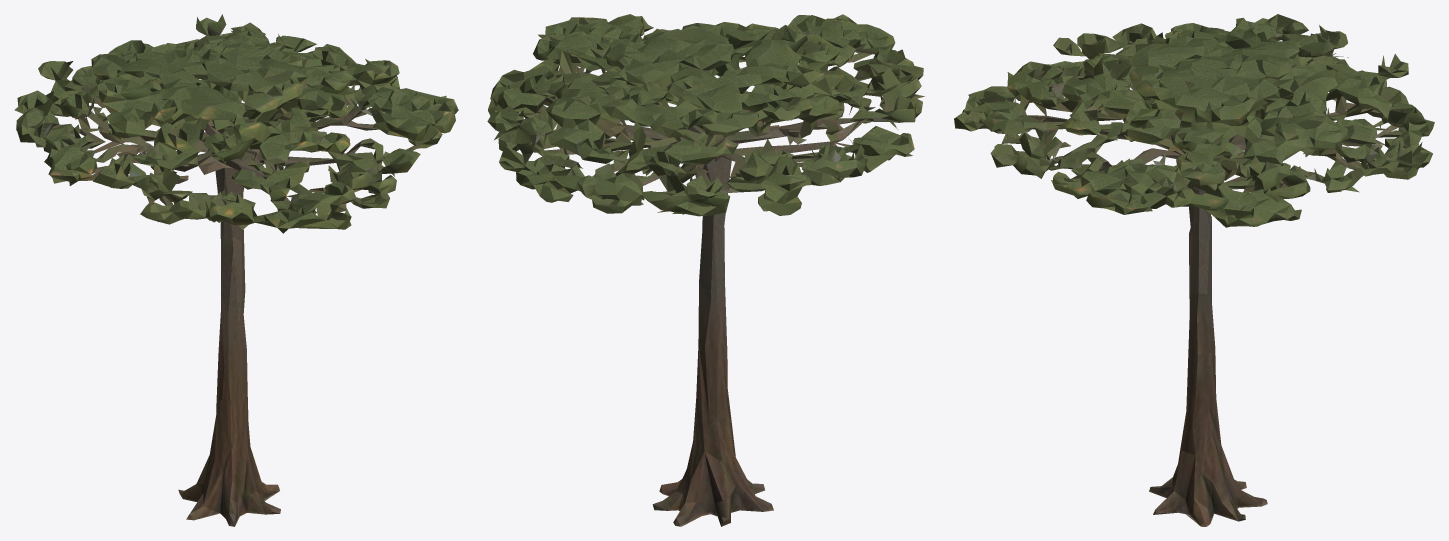
The model's file is umbrella-pine.glb.
3 views of the same model, side by side, from view 1: azimuth 30°, elevation 25°; view 2: azimuth 150°, elevation 25°; view 3: azimuth 270°, elevation 25° (orthographic). The views are drawn at different scales.
Parts seen in each view (by area): view 1: umbrella-pine; view 2: umbrella-pine; view 3: umbrella-pine.
Boxes of the visible parts, bbox=[...] form: umbrella-pine: bbox=[14, 14, 458, 526]; umbrella-pine: bbox=[487, 14, 924, 526]; umbrella-pine: bbox=[954, 14, 1434, 526].
Bounding box in the file's own units: 7.29 × 8 × 7.87.
1 material, 1 textured.
